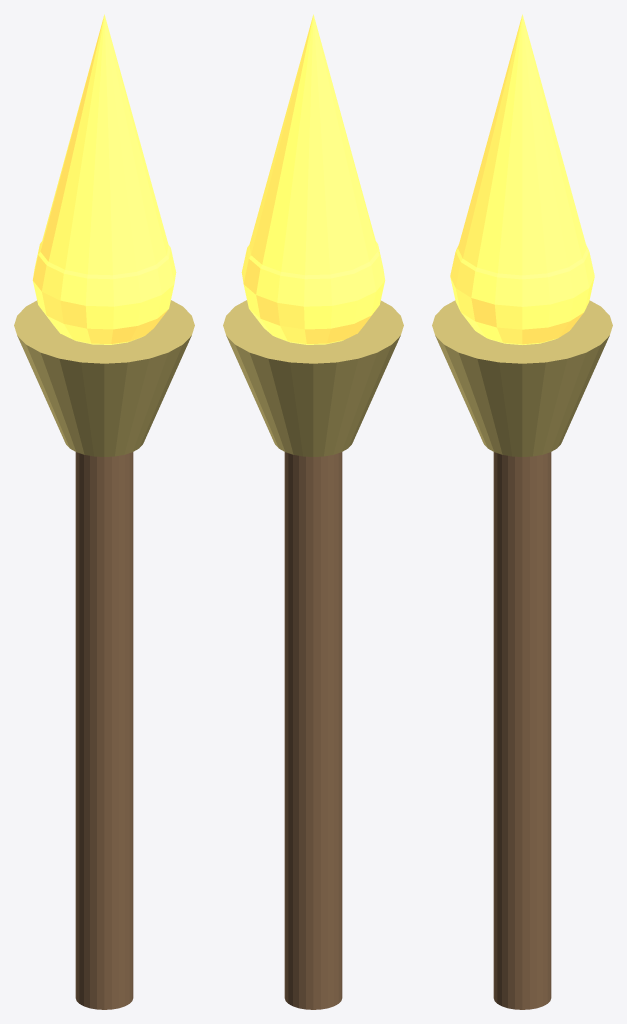
Rendered from prop_torch_placeholder_v0.glb.
The picture shows the model from 3 angles, left to right: view 1: azimuth 30°, elevation 25°; view 2: azimuth 150°, elevation 25°; view 3: azimuth 270°, elevation 25°; orthographic projection.
Parts seen in each view (by area): view 1: Torch_Handle, Flame, Torch_Cup; view 2: Torch_Handle, Flame, Torch_Cup; view 3: Torch_Handle, Flame, Torch_Cup.
Part boxes in pixels (x1,y1,x2,y2): Torch_Handle: (75,452,133,1009); Flame: (32,14,176,344); Torch_Cup: (14,300,194,456); Torch_Handle: (284,452,342,1009); Flame: (241,14,385,344); Torch_Cup: (223,300,403,456); Torch_Handle: (493,452,551,1009); Flame: (450,14,594,344); Torch_Cup: (432,300,612,456).
Bounding box in the file's own units: 0.1 × 0.6 × 0.1.
